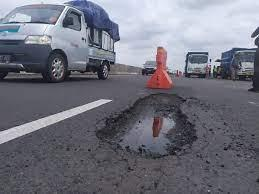Pothole: (92, 87, 207, 157)
